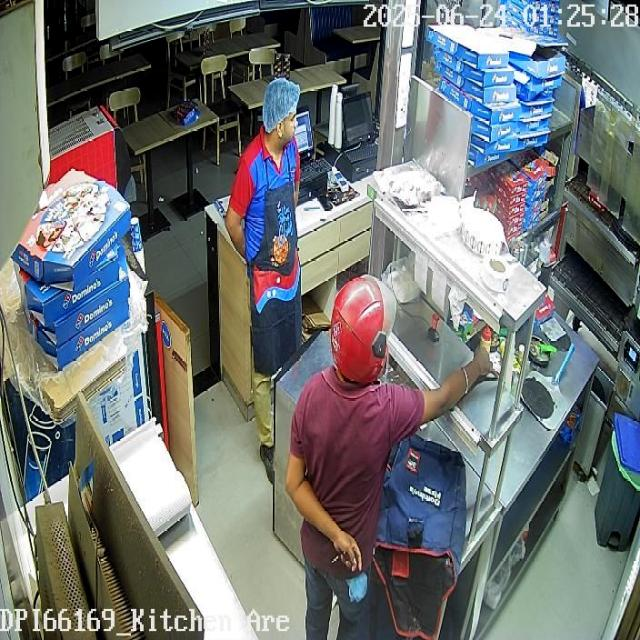helmet: (331, 272, 397, 386)
